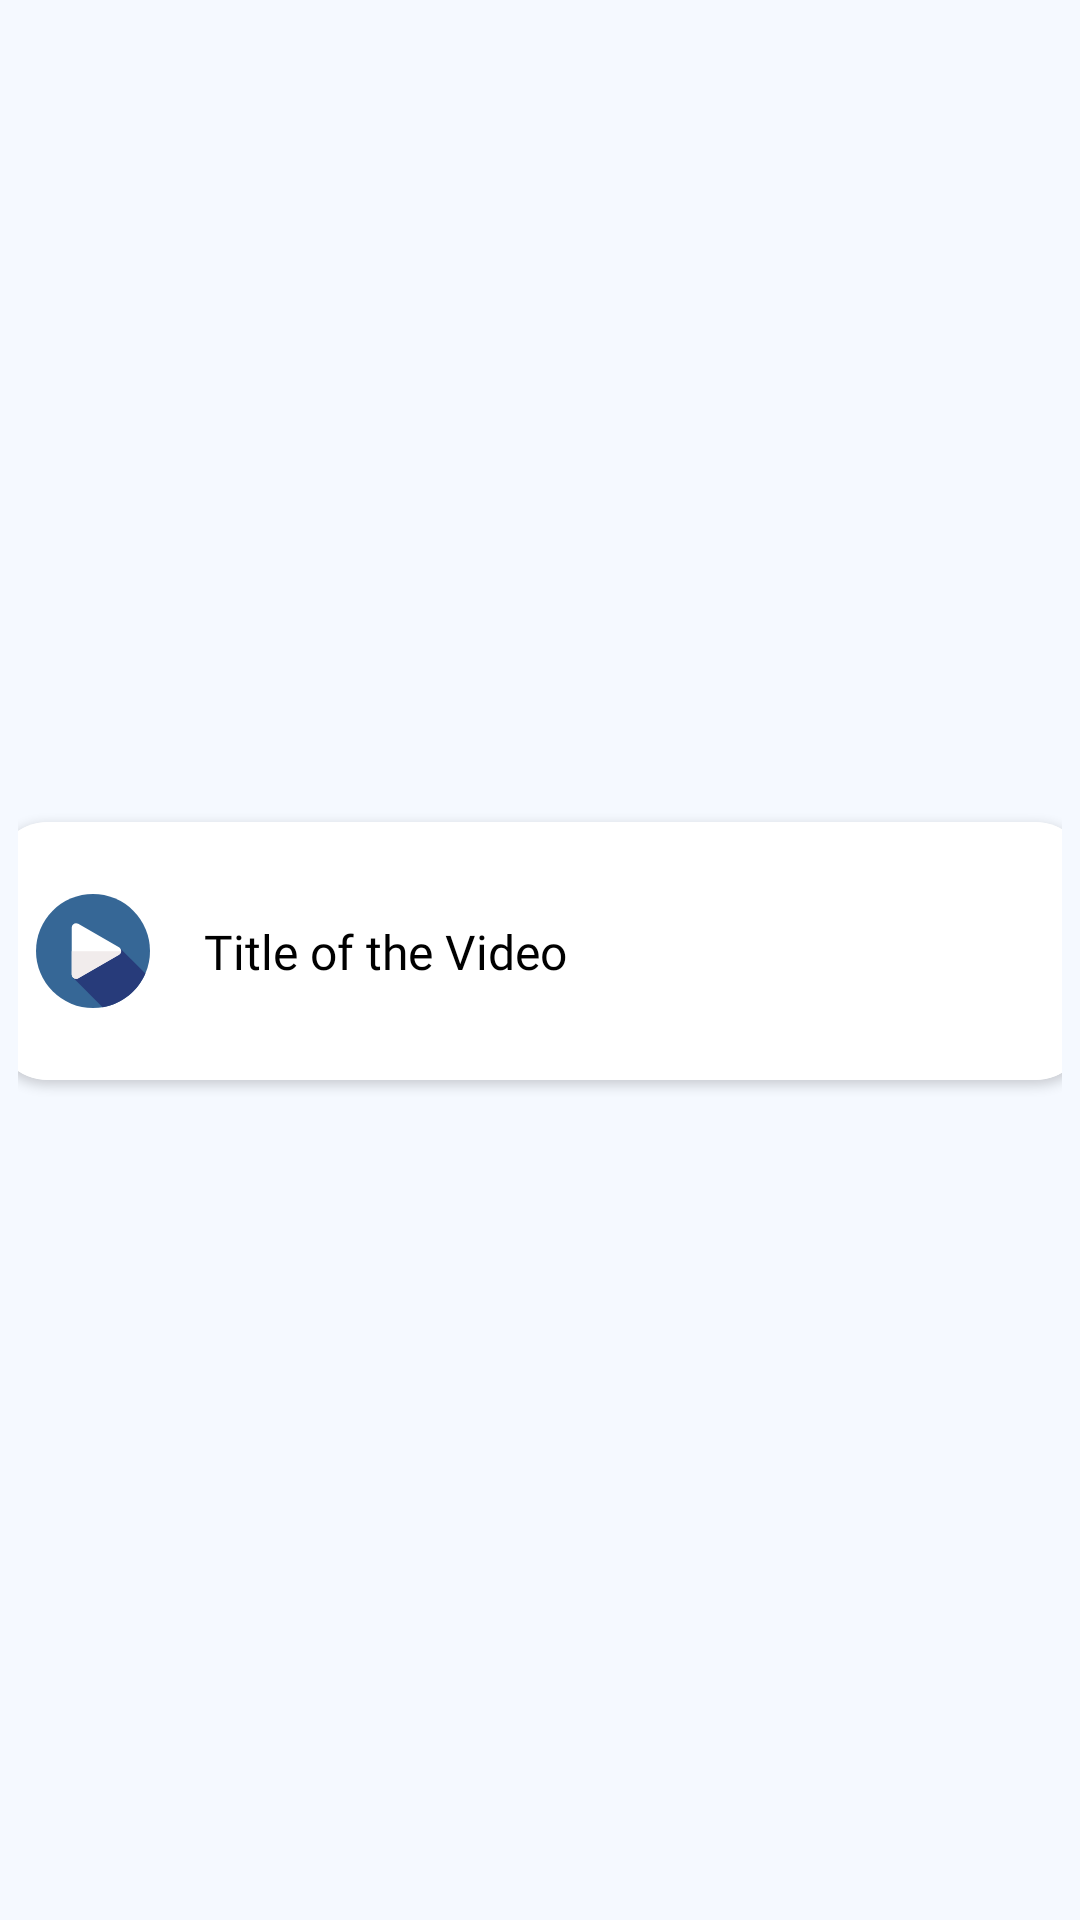

Where icons sit on this 1080*1920 app screen, as (x1, y1, x2, y2):
play: (36, 894, 150, 1008)
